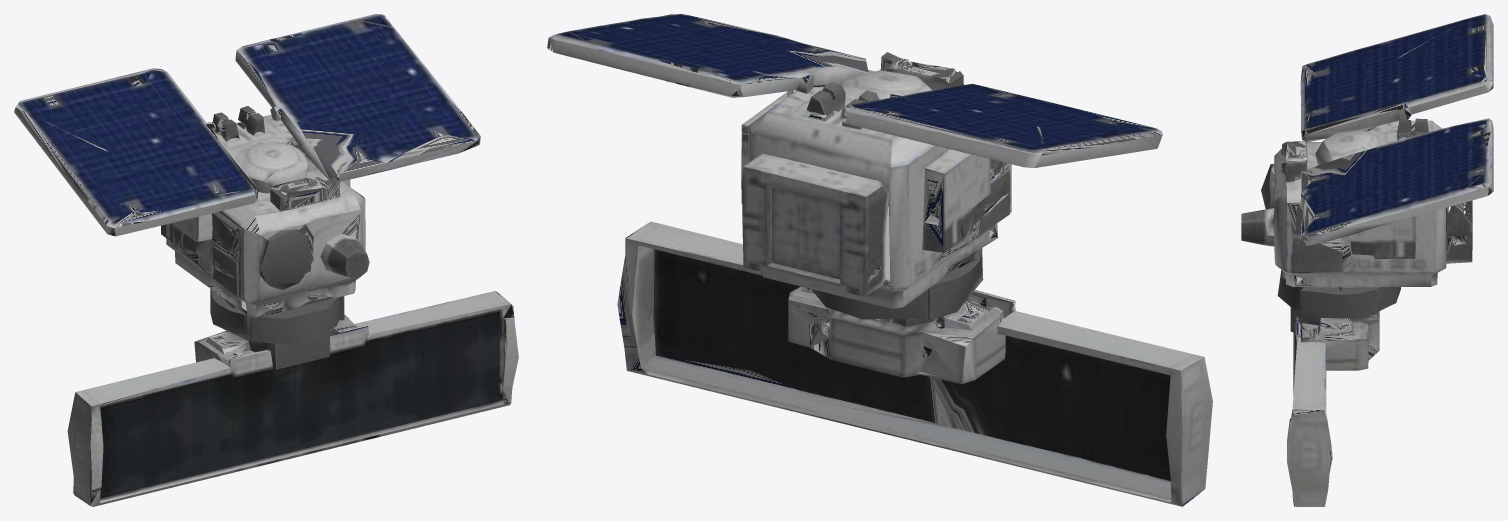
The model's file is scout.glb.
The picture shows the model from 3 angles, left to right: view 1: azimuth 30°, elevation 25°; view 2: azimuth 150°, elevation 25°; view 3: azimuth 270°, elevation 25°; orthographic projection. The views are drawn at different scales.
Parts seen in each view (by area): view 1: geometry_0; view 2: geometry_0; view 3: geometry_0.
Part boxes in pixels (x1=…): geometry_0: x1=14, y1=14, x2=518, y2=506; geometry_0: x1=547, y1=14, x2=1212, y2=506; geometry_0: x1=1241, y1=14, x2=1493, y2=506.
Bounding box in the file's own units: 1 × 0.7246 × 0.5335.
Materials: 1 (1 with a texture image).
